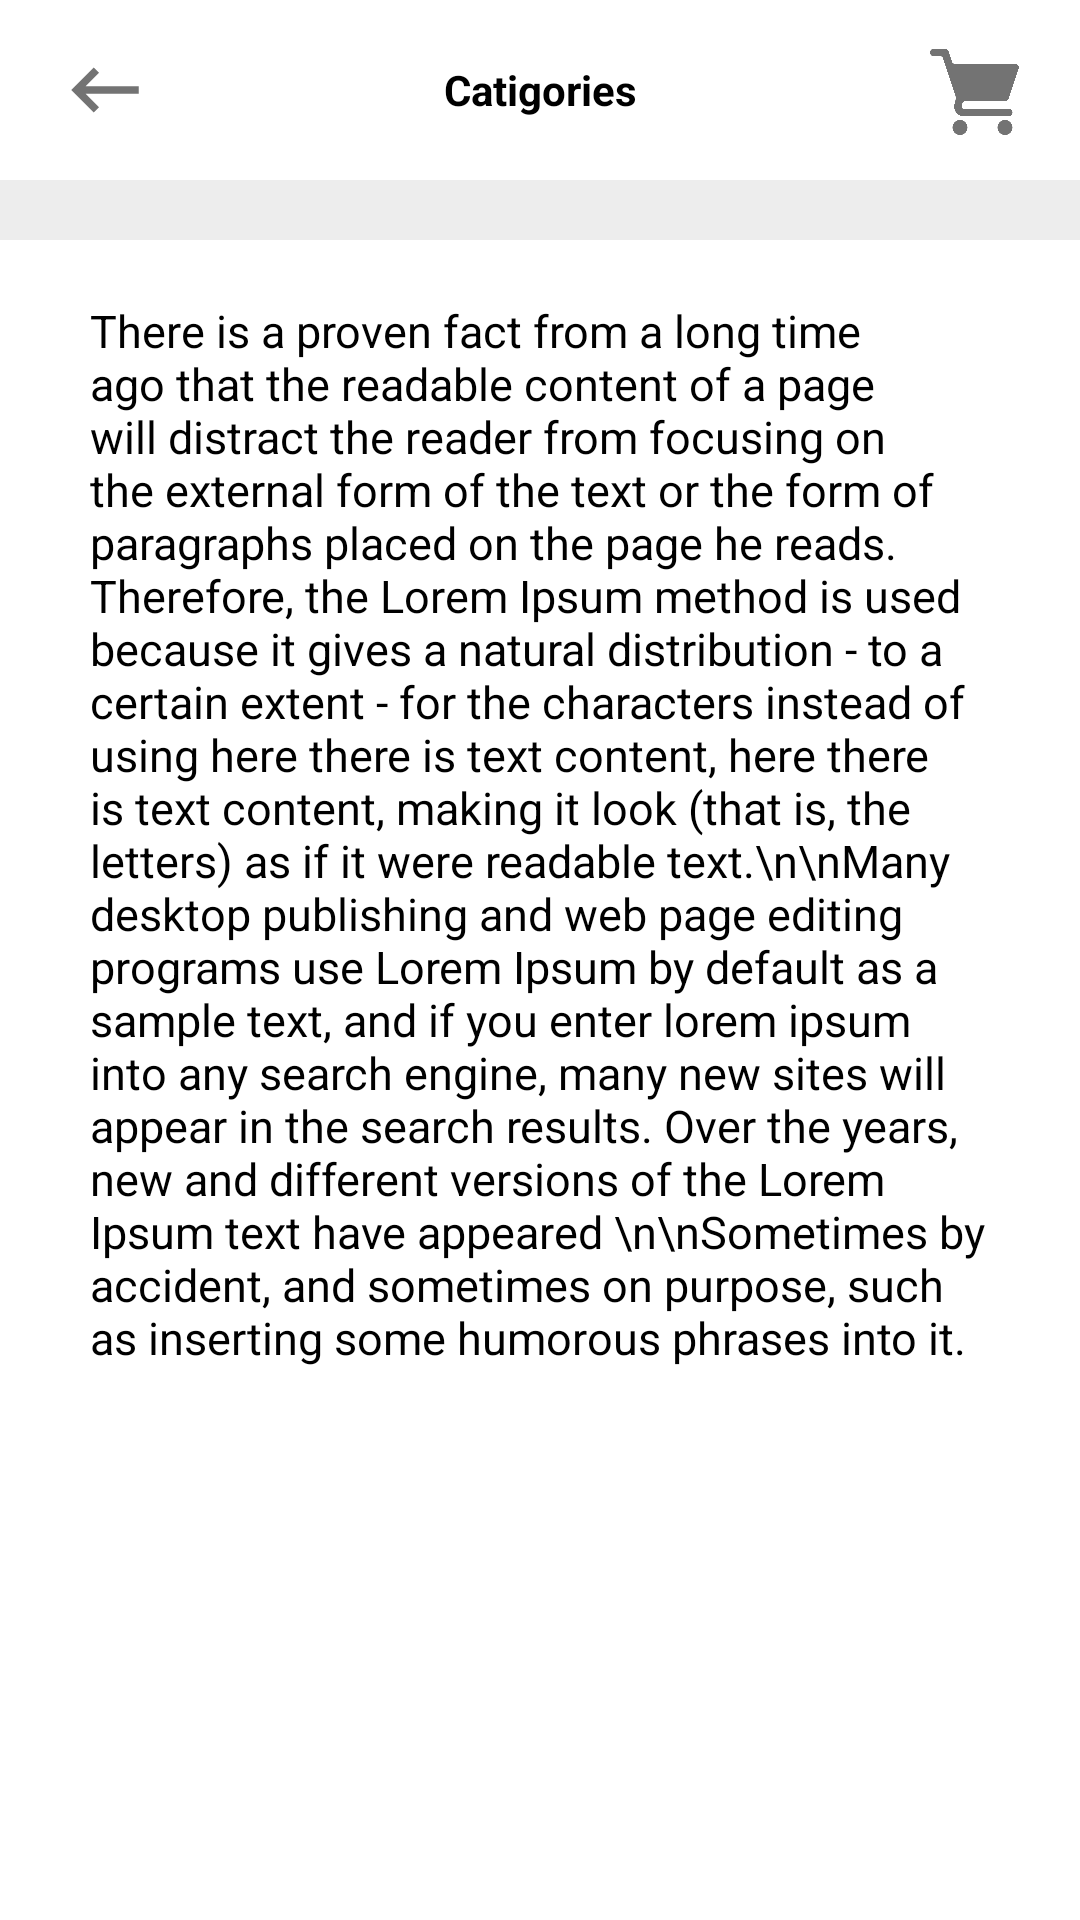

Icon bounding boxes for this 1080px×1920px phone screenshot, format Rect(x1, y1, x2, y2):
grocery store: Rect(930, 49, 1019, 135)
